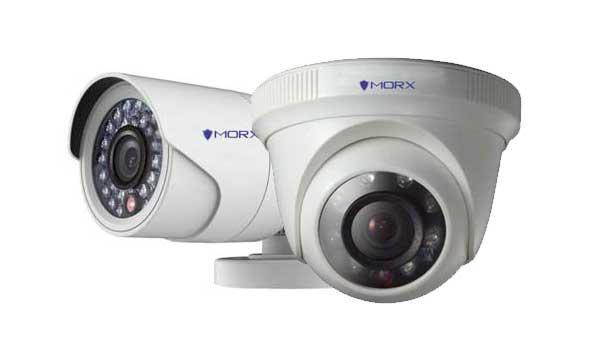CCTV: (250, 59, 522, 305), (69, 73, 280, 244)
